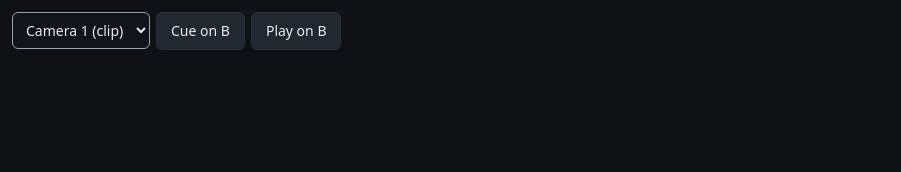
cueing a clip on player B › shows the API's reason when it refuses, and no success note
Click the button with aria-label "Cue Goal on B": (200, 31) [156,12,245,50]
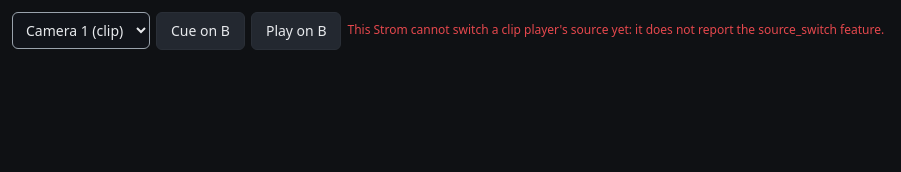
Expected: the message shows "source_switch", [348,21,884,38]
